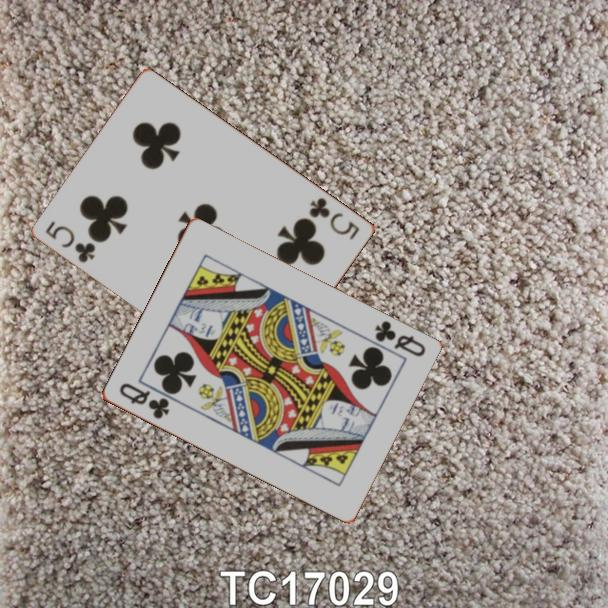c05: (306, 194, 363, 243), (42, 217, 99, 266)
c12: (370, 317, 428, 360), (115, 379, 172, 422)
